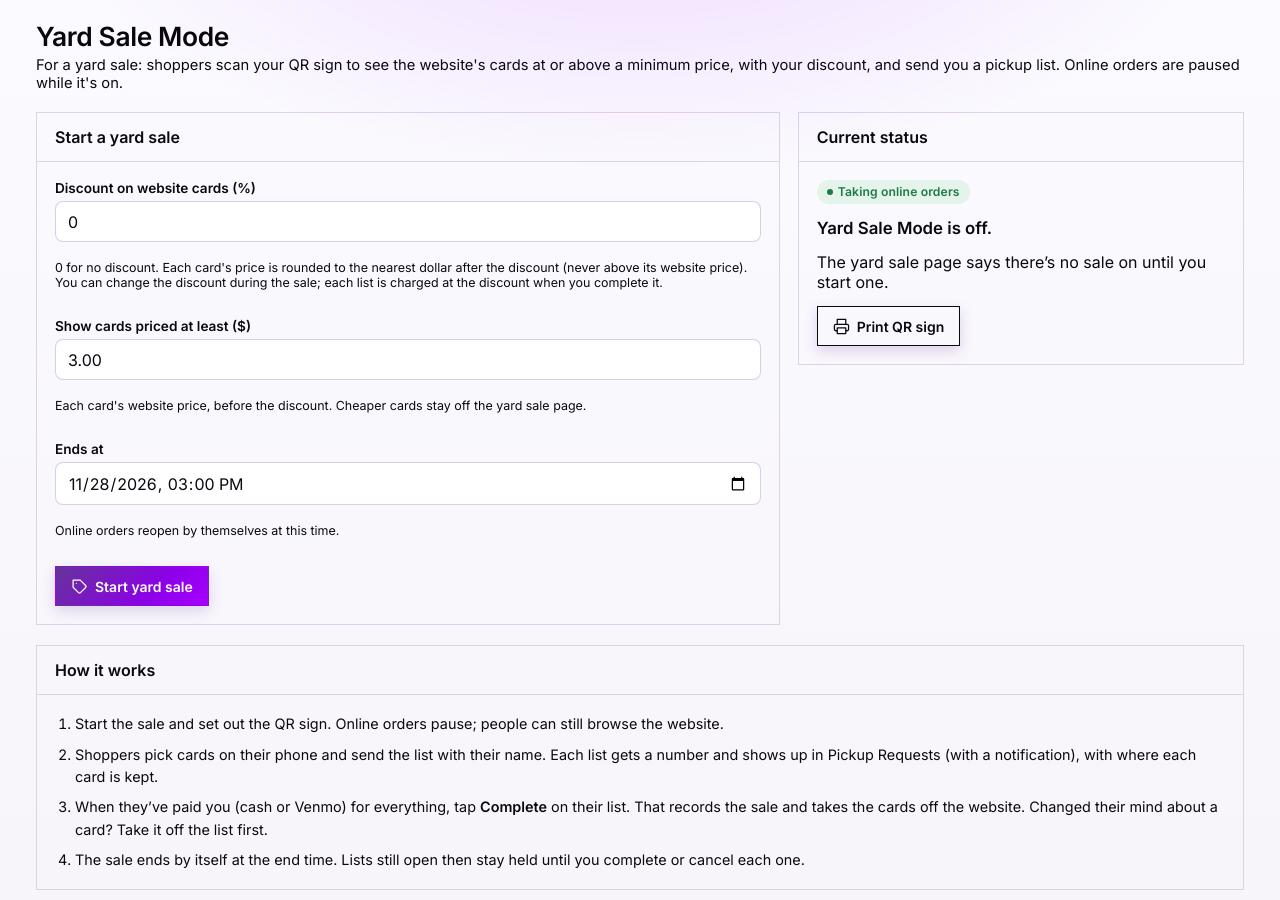
Test: the Yard Sale Mode page › won't start with a discount it can't use
Replace the text in the field labelled "Discount on website cards (%)" with "95": (408, 222) [55,201,761,242]
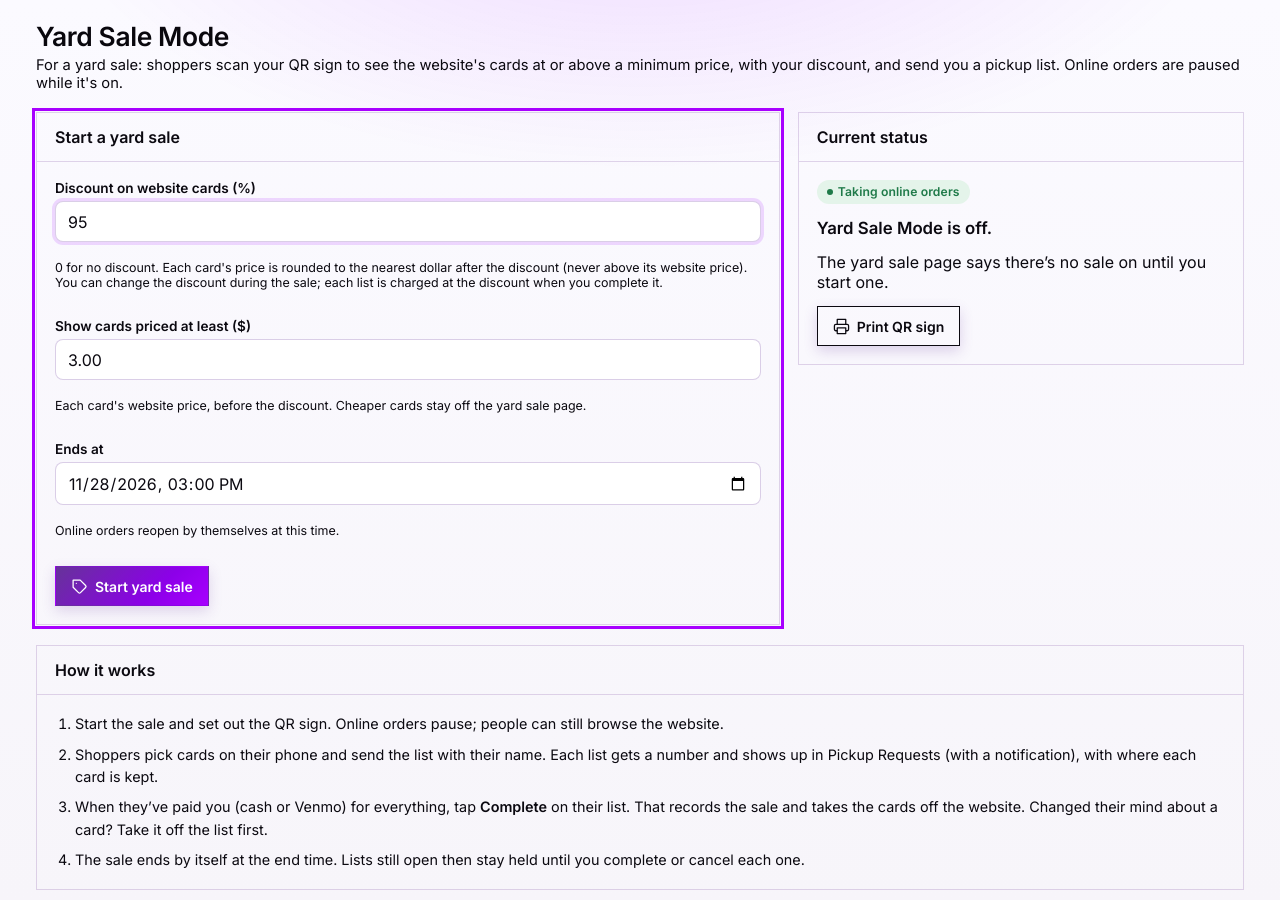
Click the button "Start yard sale": (132, 586) [55,566,209,606]
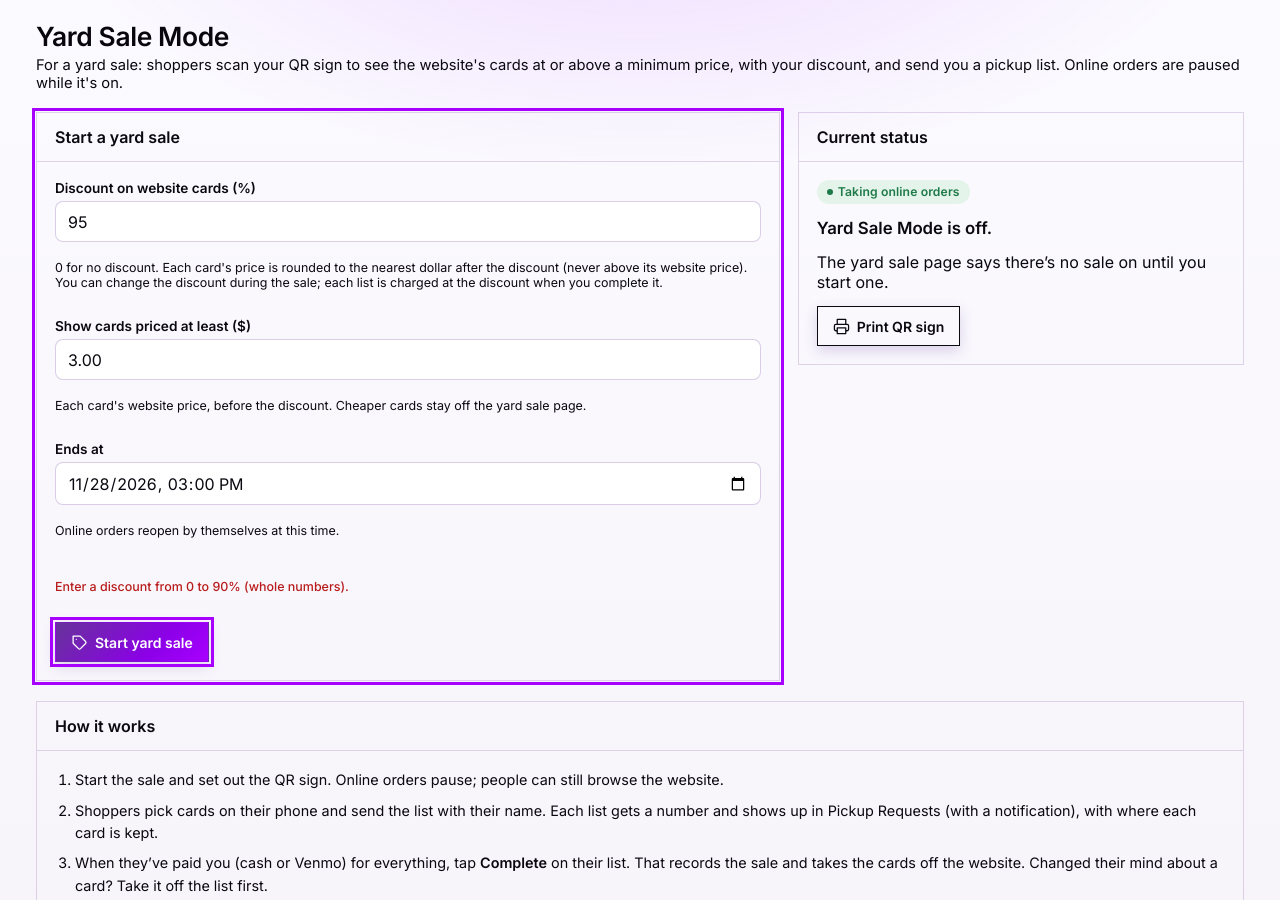
Now the message shows "Enter a discount from 0 to 90%", box [55,579,349,594]
